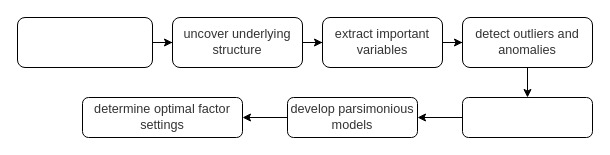
This 610x155 diagram has some shape labels left out. The box of each missing label's shape, as (x1, y1, x2, y2) in pixels:
maximize insight into a data set: (16, 16, 152, 68)
test underlying assumptions: (462, 96, 592, 138)
